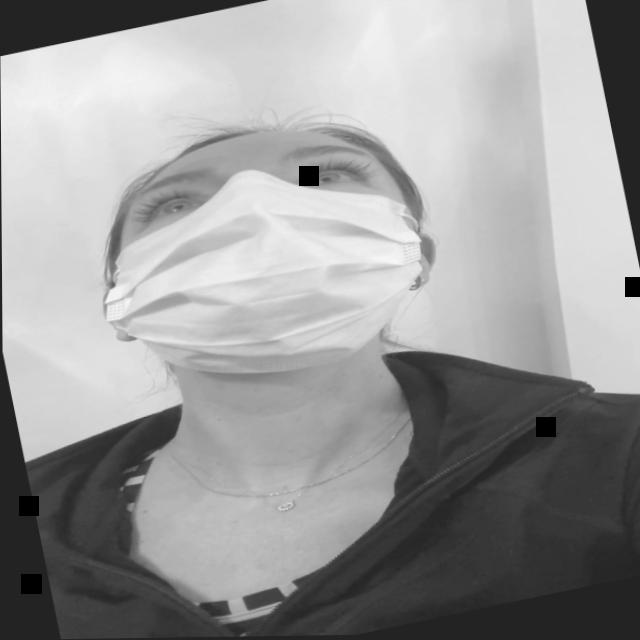Mask: (74, 101, 450, 408)
